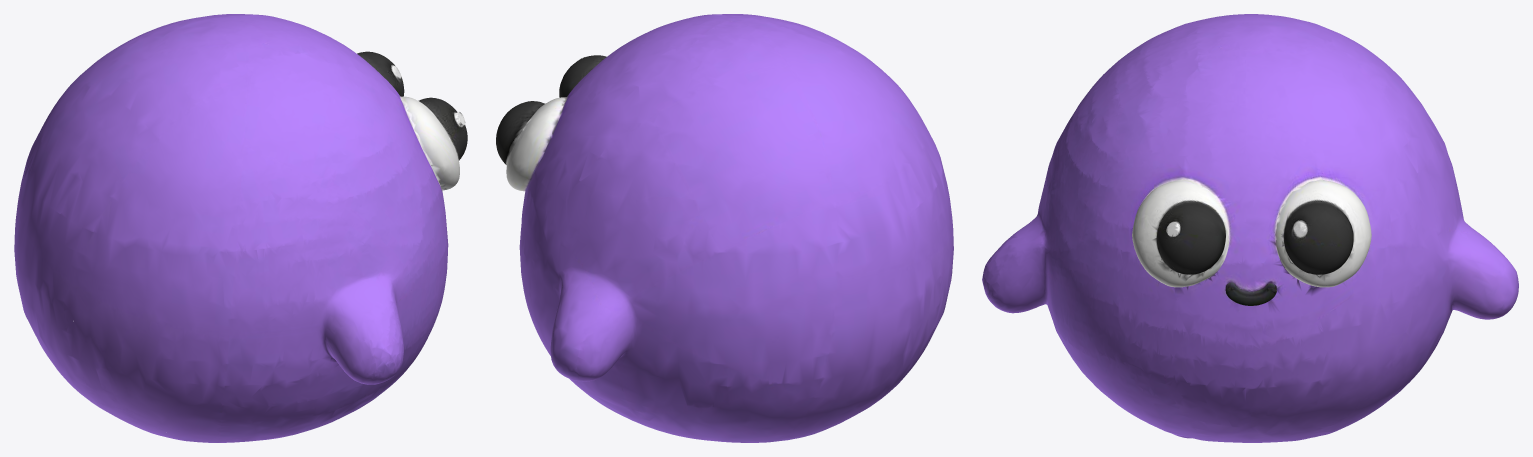
Rendered from tutor.glb.
3 views of the same model, side by side, from view 1: azimuth 30°, elevation 25°; view 2: azimuth 150°, elevation 25°; view 3: azimuth 270°, elevation 25° (orthographic).
Parts seen in each view (by area): view 1: tripo_node_6671ccf5-d48e-4f18-8bb8-cd3f06d65e28; view 2: tripo_node_6671ccf5-d48e-4f18-8bb8-cd3f06d65e28; view 3: tripo_node_6671ccf5-d48e-4f18-8bb8-cd3f06d65e28.
Boxes of the visible parts, left/top/right/bottom form: tripo_node_6671ccf5-d48e-4f18-8bb8-cd3f06d65e28: left=14, top=14, right=467, bottom=442; tripo_node_6671ccf5-d48e-4f18-8bb8-cd3f06d65e28: left=496, top=14, right=953, bottom=442; tripo_node_6671ccf5-d48e-4f18-8bb8-cd3f06d65e28: left=982, top=14, right=1518, bottom=442.
Bounding box in the file's own units: 0.8212 × 0.7607 × 0.9811.
1 material, 1 textured.
